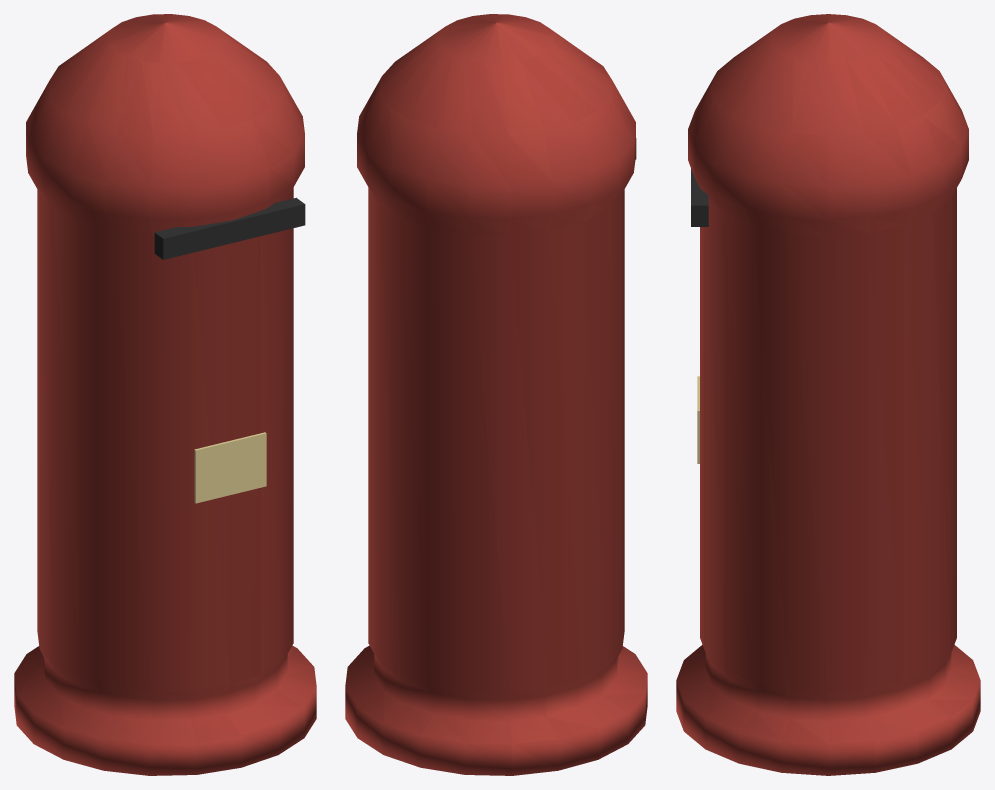
File: town_post_box_a.glb
The picture shows the model from 3 angles, left to right: view 1: azimuth 30°, elevation 25°; view 2: azimuth 150°, elevation 25°; view 3: azimuth 270°, elevation 25°; orthographic projection.
Visible parts, largest first — view 1: body; view 2: body; view 3: body.
Part boxes in pixels (left/top/right/bottom): body: left=14, top=14, right=316, bottom=775; body: left=345, top=14, right=647, bottom=775; body: left=676, top=14, right=980, bottom=775.
Size of what is drawn, in the model's own units: 0.52 by 1.3 by 0.52.
